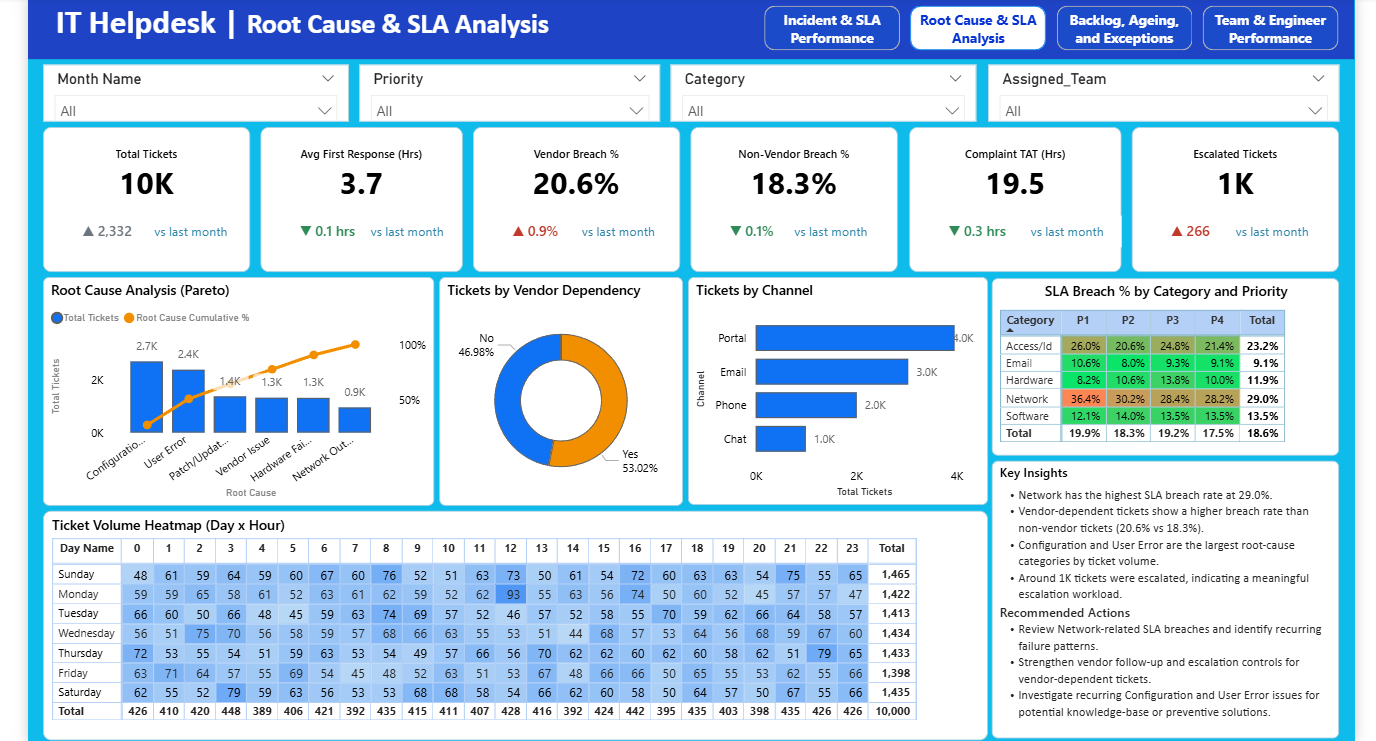

Layout of this report page (visuals, bound fields, positions):
{"tool":"powerbi","page":{"name":"Root Cause & SLA Analysis","canvas":[1280,720],"ordinal":1},"visuals":[{"type":"slicer","fields":{"Values":["Dim_Date.Month Name"]},"box":[15,65,295,55],"z":0},{"type":"slicer","fields":{"Values":["Dim_Priority.Priority"]},"box":[320,65,290.8,55.5],"z":1000},{"type":"slicer","fields":{"Values":["Dim_Category.Category"]},"box":[620,65,295,55.5],"z":2000},{"type":"slicer","fields":{"Values":["Dim_Engineer.Assigned_Team"]},"box":[926.5,65.1,339,55.5],"z":3000},{"type":"lineStackedColumnComboChart","title":"Root Cause Analysis (Pareto)","fields":{"Category":["Fact_Tickets.Root_Cause"],"Y":["_Measures.Total Tickets"],"Y2":["_Measures.Root Cause Cumulative %"]},"box":[15,270,377.6,220.8],"z":4000},{"type":"pivotTable","title":"SLA Breach % by Category and Priority","fields":{"Rows":["Dim_Category.Category"],"Columns":["Dim_Priority.Priority"],"Values":["_Measures.SLA Breach %"]},"box":[930,271.4,335,171.3],"z":5000},{"type":"clusteredBarChart","title":"Tickets by Channel","fields":{"Category":["Fact_Tickets.Channel"],"Y":["_Measures.Total Tickets"]},"box":[637,270,289.5,220],"z":6000},{"type":"donutChart","title":"Tickets by Vendor Dependency","fields":{"Y":["_Measures.SLA Breach %"],"Category":["Fact_Tickets.Vendor_Dependency"]},"box":[396.9,270.2,235,220.8],"z":7000},{"type":"pivotTable","title":"Ticket Volume Heatmap (Day x Hour)","fields":{"Rows":["Dim_Date.Day Name"],"Columns":["Fact_Tickets.Created_Hour"],"Values":["_Measures.Total Tickets"]},"box":[15,495.8,912.1,222],"z":8000},{"type":"textbox","title":"Key Insights","box":[930,448,335,268],"z":9000},{"type":"cardVisual","fields":{"Data":["_Measures.Total Tickets"]},"box":[15,125,200,140.2],"z":10000},{"type":"cardVisual","fields":{"Data":["_Measures.Vendor Breach %"]},"box":[430,125,200,140.2],"z":11000},{"type":"cardVisual","fields":{"Data":["_Measures.Avg First Response (Hrs)"]},"box":[225,125,195,140.2],"z":12000},{"type":"cardVisual","fields":{"Data":["_Measures.Non-Vendor Breach %"]},"box":[640,125,200,140.2],"z":13000},{"type":"cardVisual","fields":{"Data":["_Measures.Complaint TAT (Hrs)"]},"box":[850,125,205,140.2],"z":14000},{"type":"cardVisual","fields":{"Data":["_Measures.Escalated Tickets"]},"box":[1065,125,200,140.2],"z":15000},{"type":"textbox","box":[0,0,1280.3,60],"z":16000},{"type":"textbox","box":[117,211.1,84.5,30.2],"z":17000},{"type":"textbox","box":[325.7,211,82,30.2],"z":18000},{"type":"textbox","box":[529.6,211.1,90.5,30.2],"z":19000},{"type":"textbox","box":[734.7,211,85.7,30.2],"z":20000},{"type":"textbox","box":[962.7,211.1,92.9,30.2],"z":21000},{"type":"textbox","box":[1160.6,211,88.1,30.2],"z":22000},{"type":"pageNavigator","box":[710.6,8.4,555,43.4],"z":23000}]}

Visuals, with their boxes on the page's 1280x720 design canvas (x1, y1, x2, y2). These are canvas units, not pixel positions in the 1376x741 screenshot, which may show the page scaled, cropped or inside an application window:
slicer - Dim_Date.Month Name: (15, 65, 310, 120)
slicer - Dim_Priority.Priority: (320, 65, 611, 120)
slicer - Dim_Category.Category: (620, 65, 915, 120)
slicer - Dim_Engineer.Assigned_Team: (926, 65, 1266, 121)
"Root Cause Analysis (Pareto)" lineStackedColumnComboChart: (15, 270, 393, 491)
"SLA Breach % by Category and Priority" pivotTable: (930, 271, 1265, 443)
"Tickets by Channel" clusteredBarChart: (637, 270, 926, 490)
"Tickets by Vendor Dependency" donutChart: (397, 270, 632, 491)
"Ticket Volume Heatmap (Day x Hour)" pivotTable: (15, 496, 927, 718)
"Key Insights" textbox: (930, 448, 1265, 716)
cardVisual - _Measures.Total Tickets: (15, 125, 215, 265)
cardVisual - _Measures.Vendor Breach %: (430, 125, 630, 265)
cardVisual - _Measures.Avg First Response (Hrs): (225, 125, 420, 265)
cardVisual - _Measures.Non-Vendor Breach %: (640, 125, 840, 265)
cardVisual - _Measures.Complaint TAT (Hrs): (850, 125, 1055, 265)
cardVisual - _Measures.Escalated Tickets: (1065, 125, 1265, 265)
textbox: (0, 0, 1280, 60)
textbox: (117, 211, 202, 241)
textbox: (326, 211, 408, 241)
textbox: (530, 211, 620, 241)
textbox: (735, 211, 820, 241)
textbox: (963, 211, 1056, 241)
textbox: (1161, 211, 1249, 241)
pageNavigator: (711, 8, 1266, 52)
